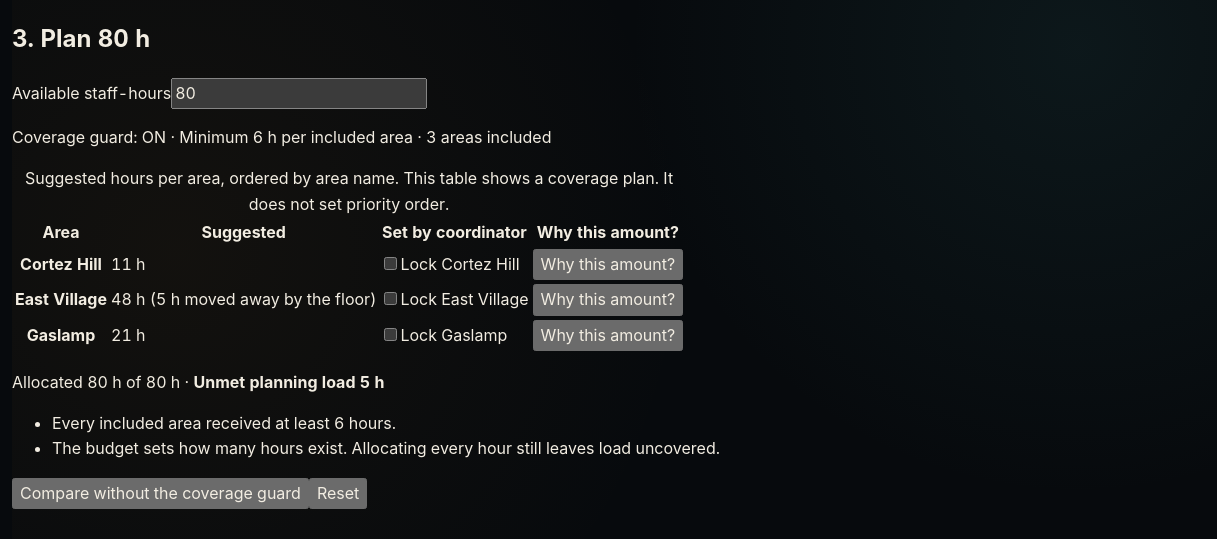
Test: the plan is readable without the historical chart › labels the unguarded view as an audit view rather than a recommendation
Click the button "Compare without the coverage guard". click: (160, 493)
box: [12,478,309,509]
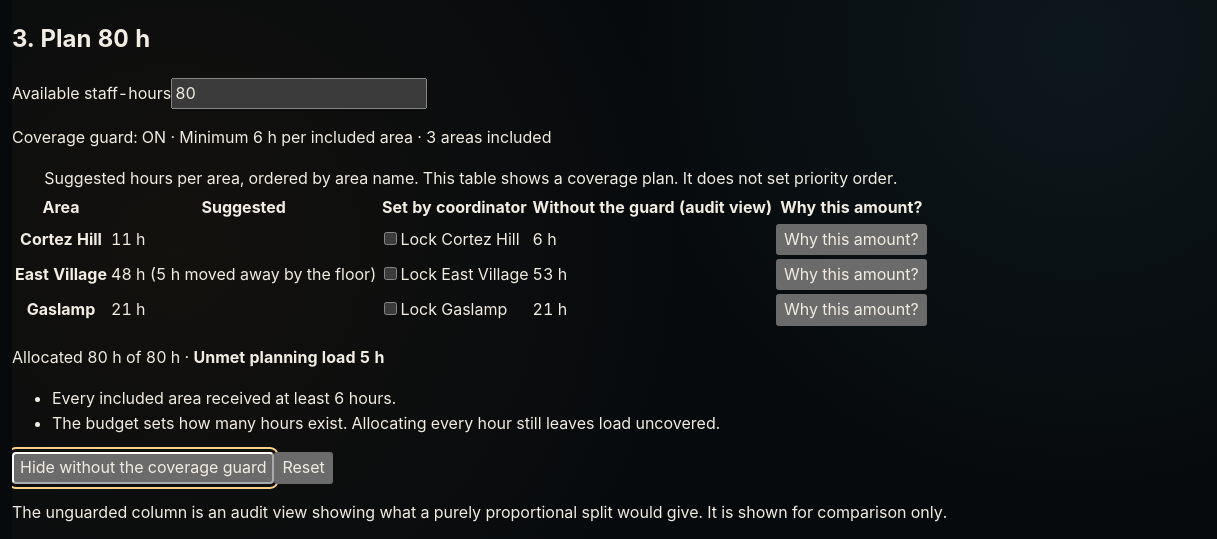
Expected: the column heading "Without the guard (audit view)" is shown, [532,194,773,221]
Expected: the text "comparison only" is shown, [12,502,947,522]
